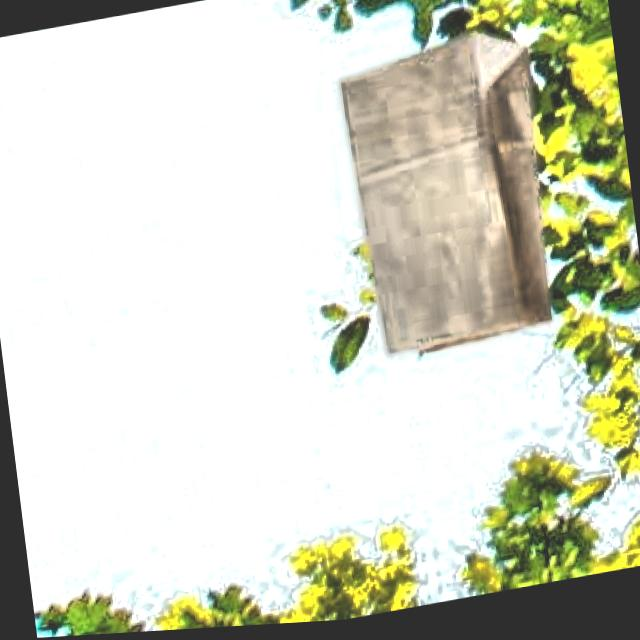Paper-bag: (317, 9, 578, 388)
